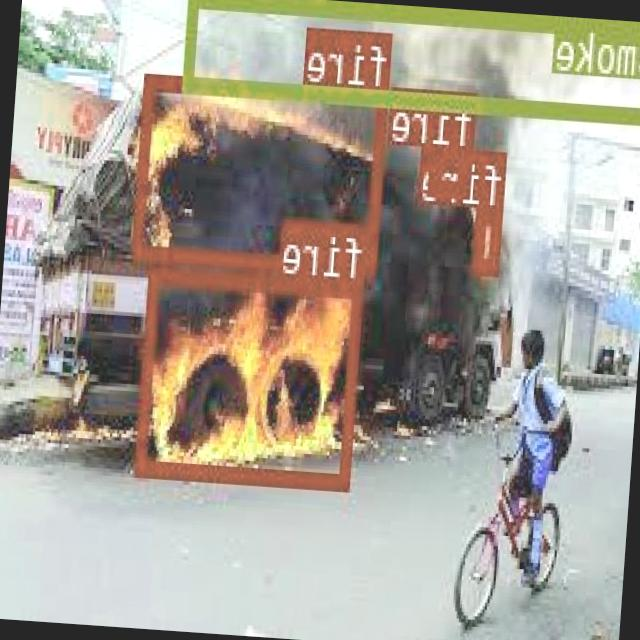fire: (135, 71, 389, 274), (137, 264, 366, 488), (431, 145, 474, 196), (476, 207, 504, 270)
smoke: (183, 0, 640, 123)
